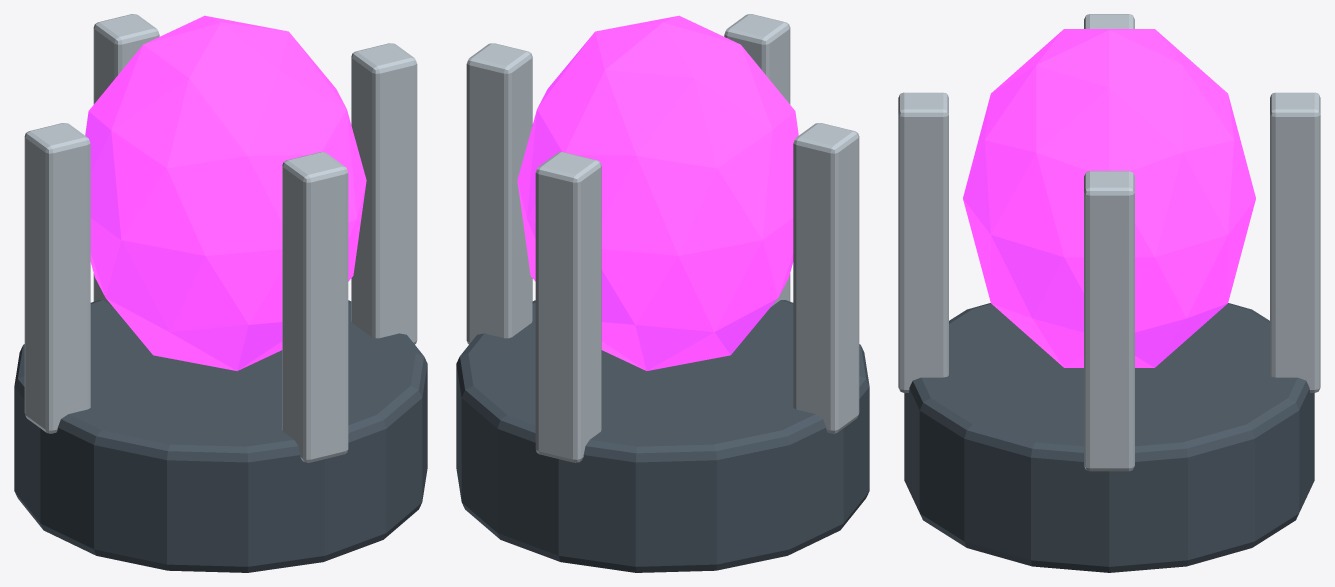
Rendered from Core-Reactor.glb.
The picture shows the model from 3 angles, left to right: view 1: azimuth 30°, elevation 25°; view 2: azimuth 150°, elevation 25°; view 3: azimuth 270°, elevation 25°; orthographic projection.
Visible parts, largest first — view 1: Central_Core_Base.001, Central_Core.001, Core_Pylon_3.001, Core_Pylon_2.001, Core_Pylon_0.001, Core_Pylon_1.001; view 2: Central_Core_Base.001, Central_Core.001, Core_Pylon_1.001, Core_Pylon_2.001, Core_Pylon_0.001, Core_Pylon_3.001; view 3: Central_Core_Base.001, Central_Core.001, Core_Pylon_0.001, Core_Pylon_1.001, Core_Pylon_3.001, Core_Pylon_2.001.
Part boxes in pixels (x1,y1,x2,y2): Central_Core_Base.001: (14,300,427,572); Central_Core.001: (85,15,366,370); Core_Pylon_3.001: (282,152,348,462); Core_Pylon_2.001: (24,123,90,433); Core_Pylon_0.001: (351,43,417,344); Core_Pylon_1.001: (93,14,159,306); Central_Core_Base.001: (456,300,869,572); Central_Core.001: (517,15,798,370); Core_Pylon_1.001: (535,152,601,462); Core_Pylon_2.001: (793,123,859,433); Core_Pylon_0.001: (466,43,532,344); Core_Pylon_3.001: (724,14,790,306); Central_Core_Base.001: (904,303,1314,572); Central_Core.001: (963,29,1255,367); Core_Pylon_0.001: (1084,171,1134,471); Core_Pylon_1.001: (1270,92,1320,392); Core_Pylon_3.001: (898,92,948,392); Core_Pylon_2.001: (1084,14,1134,28).
Bounding box in the file's own units: 2.16 × 2.6 × 2.16.
